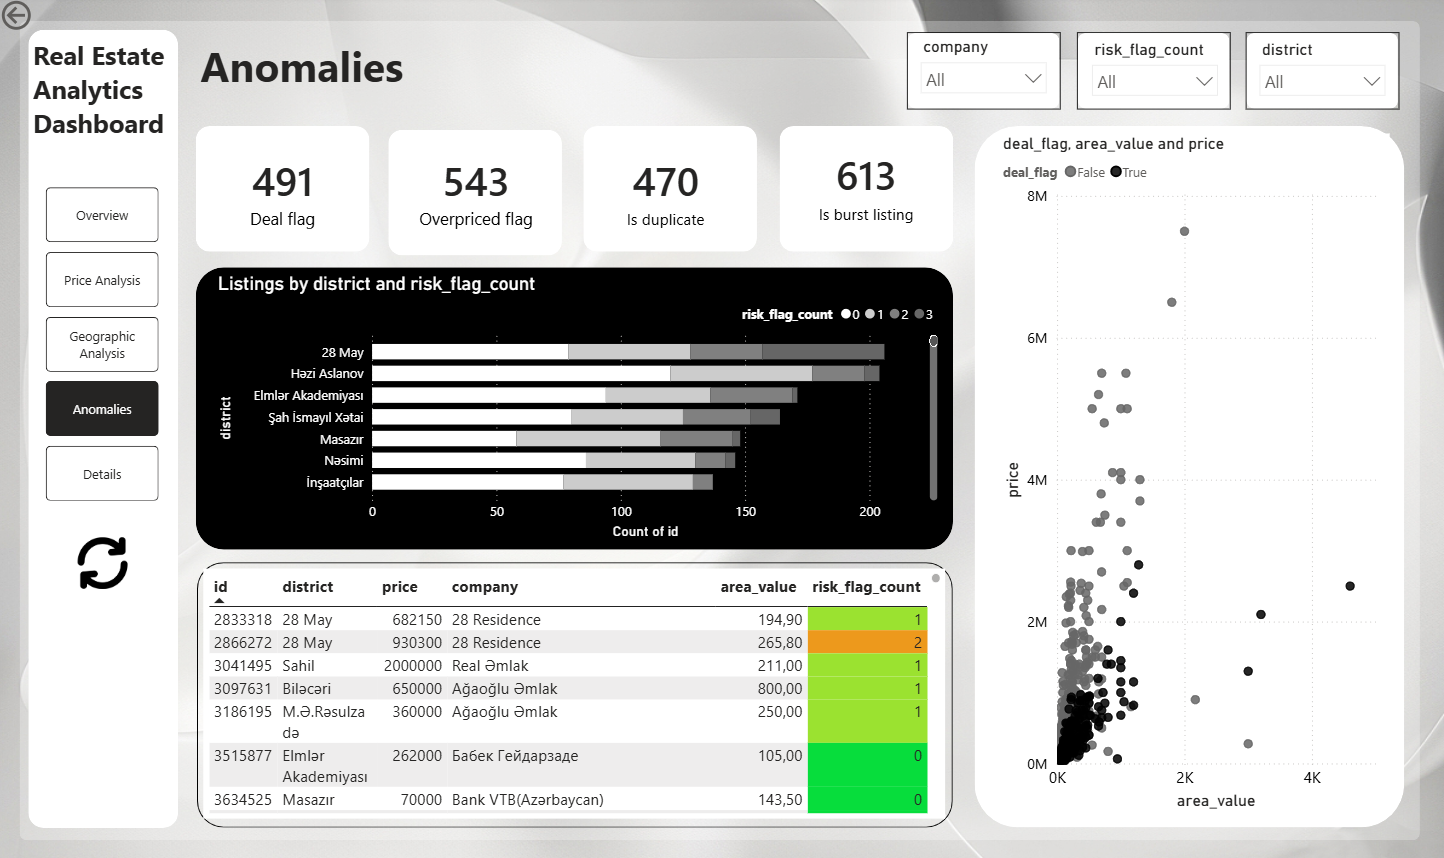

Layout of this report page (visuals, bound fields, positions):
{"tool":"powerbi","page":{"name":"Anomalies","canvas":[1500,900],"ordinal":3},"visuals":[{"type":"shape","box":[23.2,25.9,1451.2,848.9],"z":0},{"type":"shape","box":[405.2,138.3,180.1,130.3],"z":1000},{"type":"shape","box":[32.7,35.4,155.3,827.1],"z":2000},{"type":"textbox","box":[205.4,38,223.7,68.9],"z":3000},{"type":"shape","box":[607.8,135.1,180.1,130.3],"z":4000},{"type":"shape","box":[810.5,135.1,180.1,130.3],"z":5000},{"type":"shape","box":[205.8,135.1,180.1,130.3],"z":6000},{"type":"cardVisual","fields":{"Data":["CountNonNull(listings_enriched.overpriced_flag)"]},"box":[405.3,142.1,182.9,119.6],"z":7000},{"type":"cardVisual","fields":{"Data":["CountNonNull(listings_enriched.is_duplicate)"]},"box":[600.8,142.1,184.3,119.6],"z":8000},{"type":"cardVisual","fields":{"Data":["CountNonNull(listings_enriched.is_burst_listing)"]},"box":[810.5,130.9,180.1,130.9],"z":9000},{"type":"shape","box":[207.4,586.9,783.1,275],"z":10000},{"type":"shape","box":[1293.8,37.8,159,80.2],"z":11000},{"type":"shape","box":[1013.1,135.1,445.4,726.8],"z":12000},{"type":"shape","box":[1119.3,37.8,159,80.2],"z":13000},{"type":"shape","box":[943.4,37.8,159,80.2],"z":14000},{"type":"shape","box":[205.8,281.4,784.7,292.7],"z":15000},{"type":"slicer","fields":{"Values":["listings_enriched.district"]},"box":[1297.7,40.2,151.2,77.2],"z":16000},{"type":"slicer","fields":{"Values":["listings_enriched.risk_flag_count"]},"box":[1124,40.2,151.2,77.2],"z":17000},{"type":"slicer","fields":{"Values":["listings.company"]},"box":[947.2,37,151.2,77.2],"z":18000},{"type":"textbox","box":[32.4,38,173.1,128],"z":19000},{"type":"cardVisual","fields":{"Data":["CountNonNull(listings_enriched.deal_flag)"]},"box":[205.4,140.7,180.1,121],"z":20000},{"type":"tableEx","fields":{"Values":["listings_enriched.id","listings_enriched.district","listings_enriched.price","listings_enriched.company","listings_enriched.area_value","listings_enriched.risk_flag_count"]},"box":[214.2,593.4,768.7,258.9],"z":21000},{"type":"actionButton","box":[0,0,100,40],"z":22000},{"type":"scatterChart","fields":{"X":["listings_enriched.area_value"],"Y":["listings_enriched.price"],"Series":["listings_enriched.deal_flag"]},"box":[1037.1,142.1,405.3,705],"z":23000},{"type":"barChart","title":"Listings by  district and risk_flag_count","fields":{"Category":["listings_enriched.district"],"Y":["CountNonNull(listings_enriched.id)"],"Series":["listings_enriched.risk_flag_count"]},"box":[223.5,287.8,755.8,279.8],"z":24000},{"type":"pageNavigator","box":[50.4,197.6,117.2,329.8],"z":25000},{"type":"image","box":[73.4,560.9,71.7,53.8],"z":26000}]}

Visuals, with their boxes on the page's 1500x900 design canvas (x1, y1, x2, y2). These are canvas units, not pixel positions in the 1444x858 screenshot, which may show the page scaled, cropped or inside an application window:
shape: x1=23 y1=26 x2=1474 y2=875
shape: x1=405 y1=138 x2=585 y2=269
shape: x1=33 y1=35 x2=188 y2=862
textbox: x1=205 y1=38 x2=429 y2=107
shape: x1=608 y1=135 x2=788 y2=265
shape: x1=810 y1=135 x2=991 y2=265
shape: x1=206 y1=135 x2=386 y2=265
cardVisual - CountNonNull(listings_enriched.overpriced_flag): x1=405 y1=142 x2=588 y2=262
cardVisual - CountNonNull(listings_enriched.is_duplicate): x1=601 y1=142 x2=785 y2=262
cardVisual - CountNonNull(listings_enriched.is_burst_listing): x1=810 y1=131 x2=991 y2=262
shape: x1=207 y1=587 x2=990 y2=862
shape: x1=1294 y1=38 x2=1453 y2=118
shape: x1=1013 y1=135 x2=1458 y2=862
shape: x1=1119 y1=38 x2=1278 y2=118
shape: x1=943 y1=38 x2=1102 y2=118
shape: x1=206 y1=281 x2=990 y2=574
slicer - listings_enriched.district: x1=1298 y1=40 x2=1449 y2=117
slicer - listings_enriched.risk_flag_count: x1=1124 y1=40 x2=1275 y2=117
slicer - listings.company: x1=947 y1=37 x2=1098 y2=114
textbox: x1=32 y1=38 x2=206 y2=166
cardVisual - CountNonNull(listings_enriched.deal_flag): x1=205 y1=141 x2=386 y2=262
tableEx - listings_enriched.id x listings_enriched.district: x1=214 y1=593 x2=983 y2=852
actionButton: x1=0 y1=0 x2=100 y2=40
scatterChart - listings_enriched.area_value x listings_enriched.price: x1=1037 y1=142 x2=1442 y2=847
"Listings by  district and risk_flag_count" barChart: x1=224 y1=288 x2=979 y2=568
pageNavigator: x1=50 y1=198 x2=168 y2=527
image: x1=73 y1=561 x2=145 y2=615
